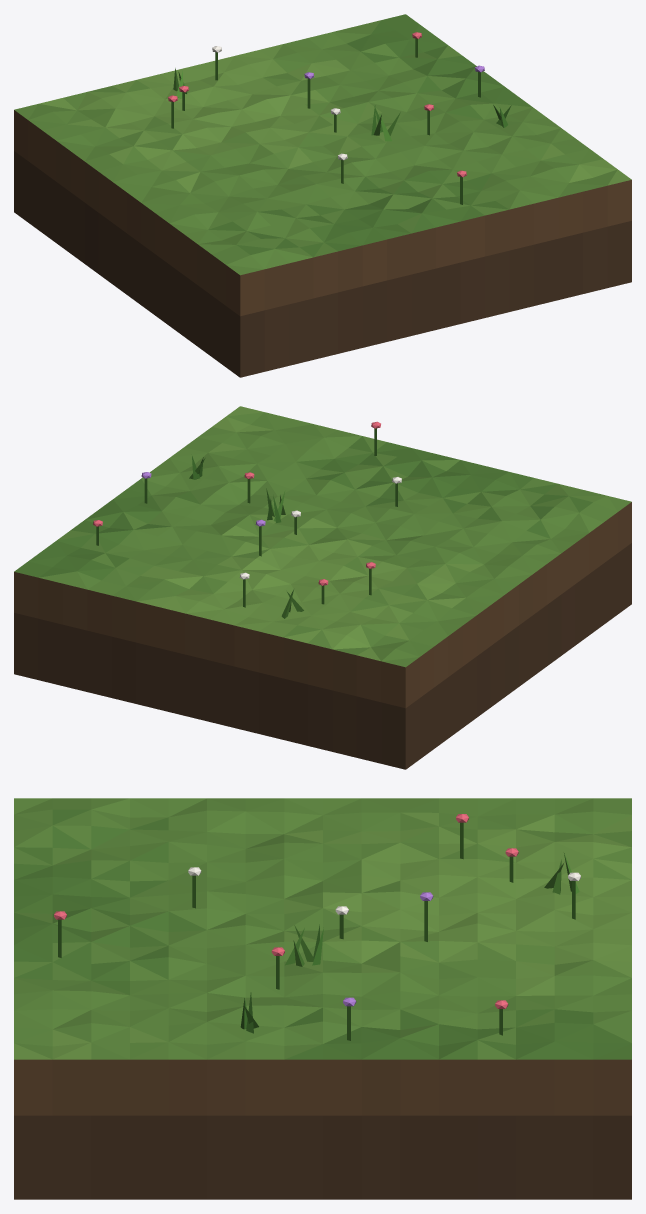
File: grass_2.glb
The picture shows the model from 3 angles, top to bottom: view 1: azimuth 30°, elevation 25°; view 2: azimuth 150°, elevation 25°; view 3: azimuth 270°, elevation 25°; orthographic projection. The views are drawn at different scales.
Visible parts, largest first — view 1: Grass2; view 2: Grass2; view 3: Grass2.
Part boxes in pixels (box(x1,y1,x2,y2)): Grass2: box(14, 14, 631, 377); Grass2: box(14, 406, 631, 769); Grass2: box(14, 798, 631, 1199).
Size of the model in its own units: 2 by 0.6881 by 2.
